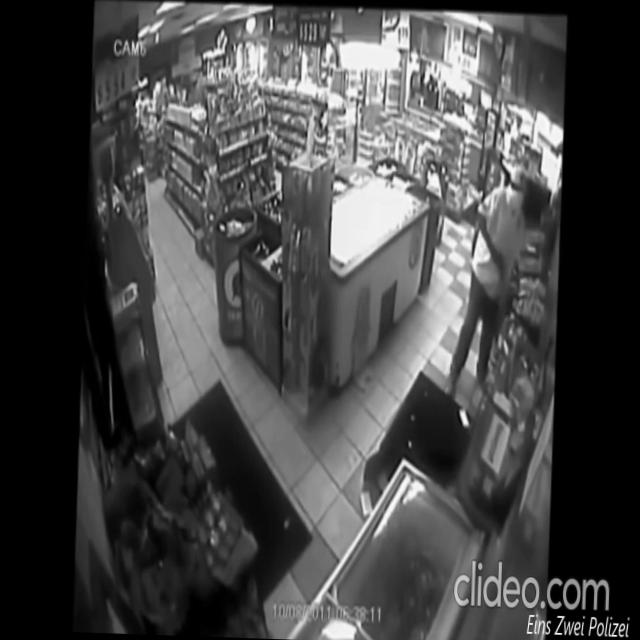gun: (494, 249, 508, 286)
person with a gun: (444, 163, 529, 400)
